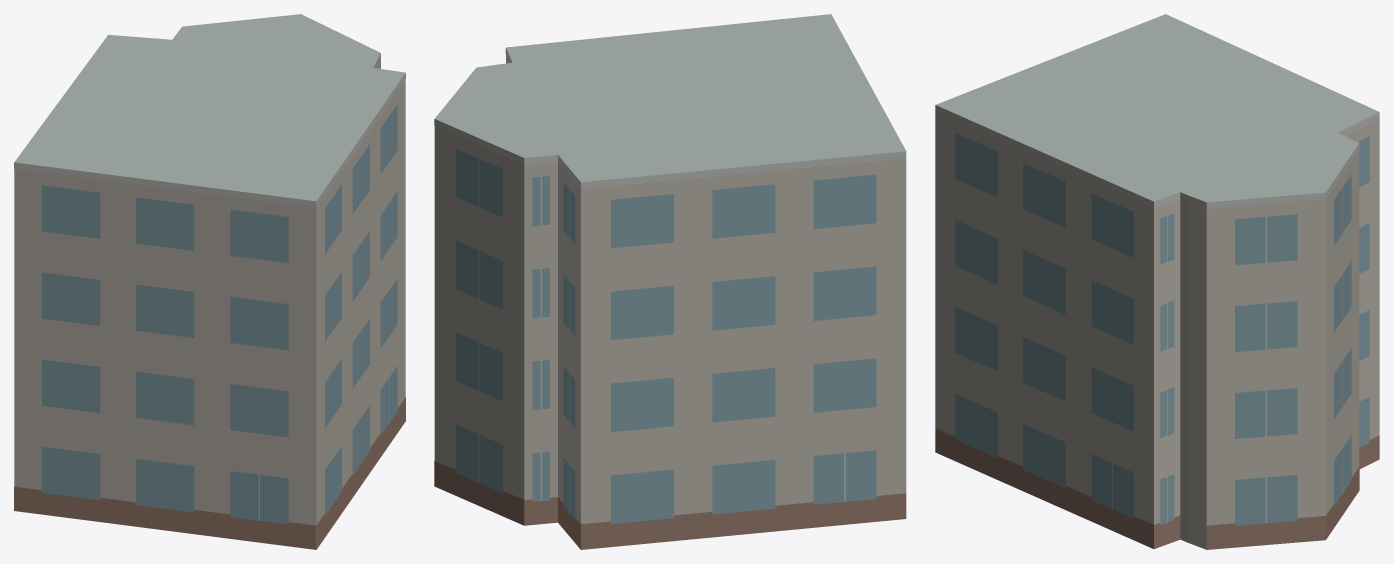
The model's file is survey-upis-32713016.glb.
The picture shows the model from 3 angles, left to right: view 1: azimuth 30°, elevation 25°; view 2: azimuth 150°, elevation 25°; view 3: azimuth 270°, elevation 25°; orthographic projection. The views are drawn at different scales.
Parts seen in each view (by area): view 1: survey-upis-32713016.tmp; view 2: survey-upis-32713016.tmp; view 3: survey-upis-32713016.tmp.
Part boxes in pixels (x1=…): survey-upis-32713016.tmp: x1=14, y1=14, x2=405, y2=549; survey-upis-32713016.tmp: x1=434, y1=14, x2=906, y2=549; survey-upis-32713016.tmp: x1=935, y1=14, x2=1379, y2=549.
Bounding box in the file's own units: 15.1 × 12.98 × 15.04.
